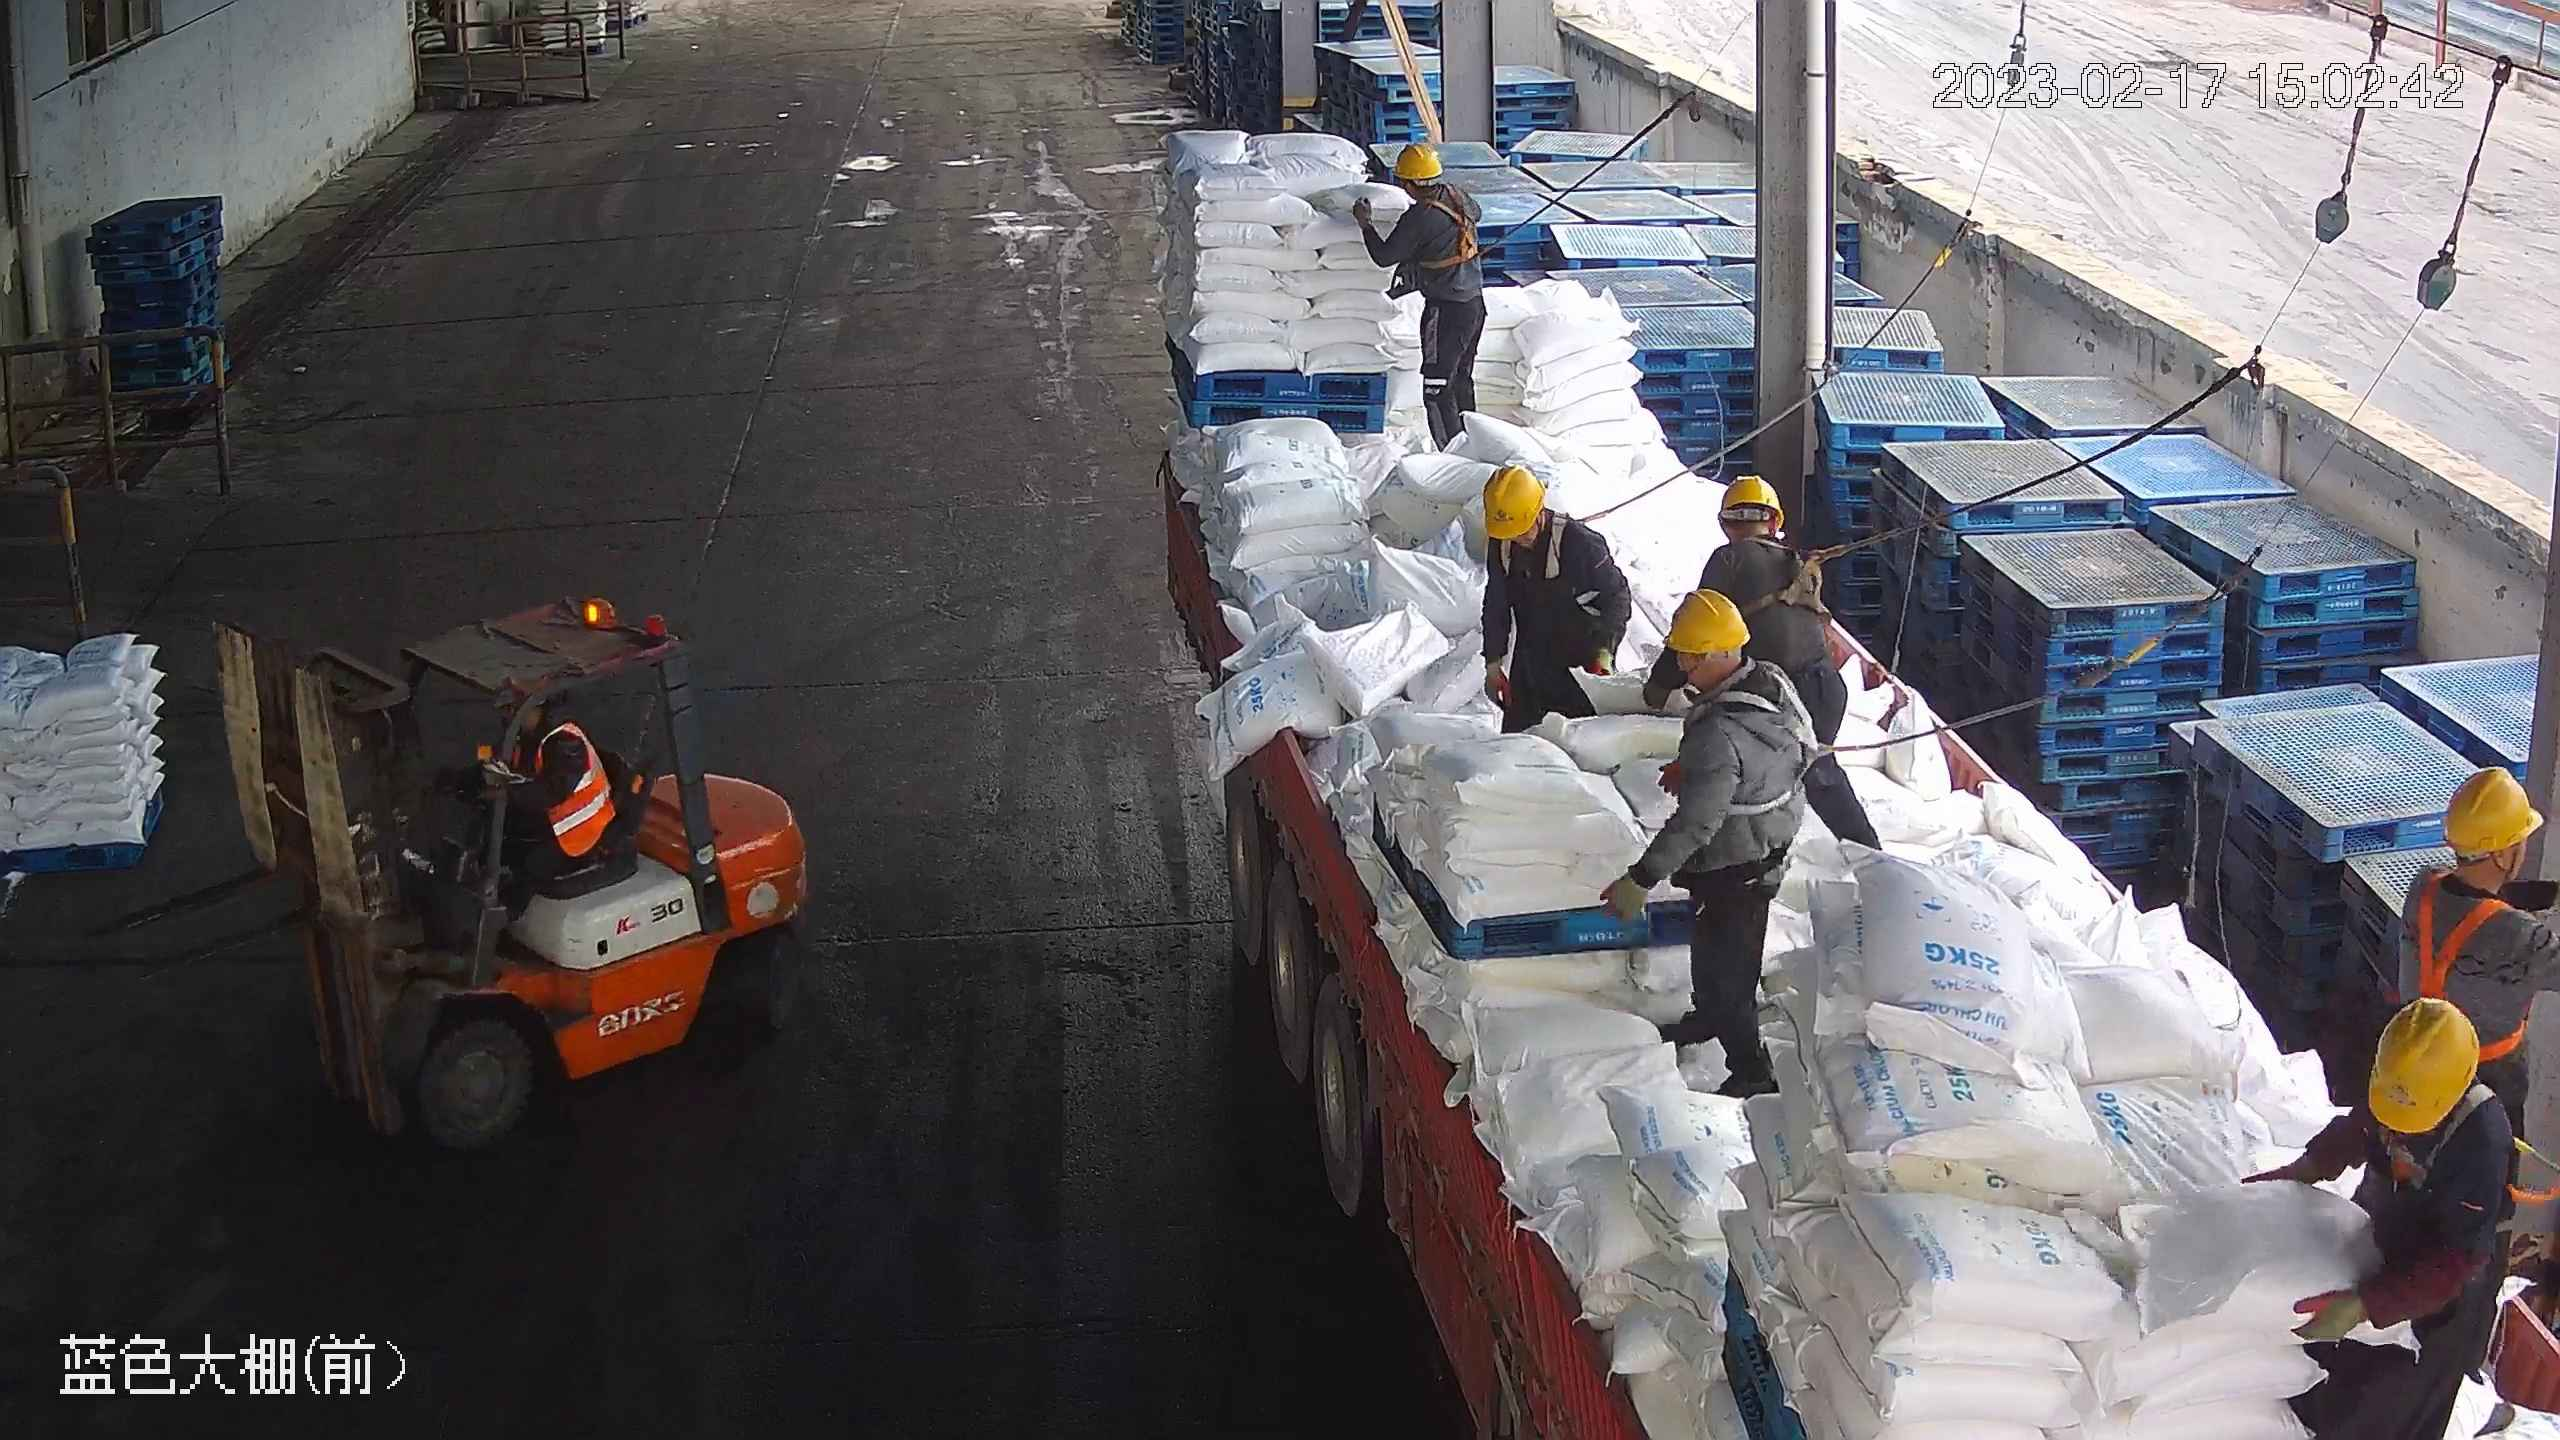belt: (2398, 880, 2549, 1069), (2350, 1079, 2544, 1203), (1694, 673, 1837, 821), (1739, 531, 1841, 622), (1407, 187, 1495, 271), (1499, 503, 1582, 583)
head: (2398, 764, 2558, 962), (1646, 584, 1810, 762), (1474, 463, 1612, 568), (1704, 473, 1829, 584), (1388, 139, 1479, 230)
helmet: (2356, 994, 2486, 1134), (2439, 766, 2545, 853), (1662, 588, 1752, 657), (1478, 462, 1549, 539), (1718, 472, 1787, 527), (1390, 140, 1443, 182)
people: (2245, 999, 2516, 1439), (1599, 586, 1812, 1103), (1694, 470, 1876, 852), (1476, 461, 1631, 737), (1351, 141, 1487, 455), (453, 696, 613, 924)
truck: (1153, 423, 2560, 1440)
